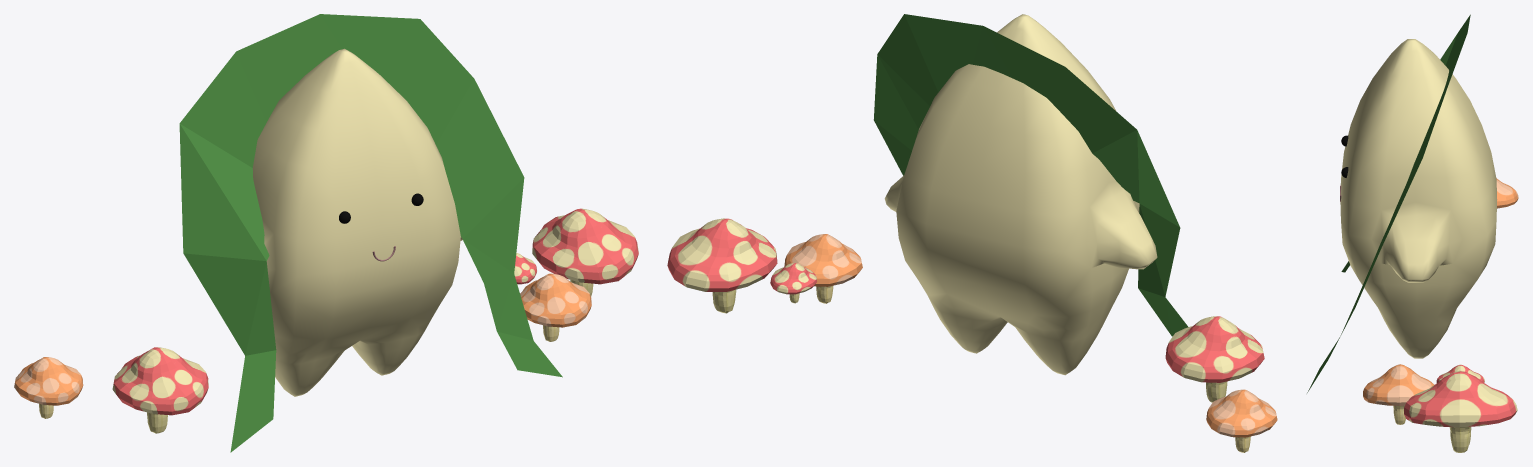
Rendered from 山精靈.fbx.
3 views of the same model, side by side, from view 1: azimuth 30°, elevation 25°; view 2: azimuth 150°, elevation 25°; view 3: azimuth 270°, elevation 25° (orthographic). The views are drawn at different scales.
Parts seen in each view (by area): view 1: polySurface1, polySurface5, polySurface9, polySurface6, polySurface7, polySurface8; view 2: polySurface1, polySurface5, polySurface9, polySurface6, polySurface7, polySurface8, polySurface10; view 3: polySurface1, polySurface9, polySurface7, polySurface5, polySurface8, polySurface10.
Part boxes in pixels (box(x1,y1,x2,y2)): polySurface1: box(252, 48, 462, 396); polySurface5: box(179, 14, 562, 452); polySurface9: box(532, 208, 638, 296); polySurface6: box(112, 347, 208, 433); polySurface7: box(520, 273, 591, 341); polySurface8: box(14, 357, 83, 418); polySurface1: box(884, 14, 1157, 375); polySurface5: box(873, 14, 1188, 336); polySurface9: box(667, 218, 777, 313); polySurface6: box(1165, 316, 1264, 402); polySurface7: box(784, 234, 862, 303); polySurface8: box(1206, 389, 1277, 452); polySurface10: box(770, 263, 816, 303); polySurface1: box(1340, 39, 1497, 358); polySurface9: box(1404, 370, 1517, 452); polySurface7: box(1363, 364, 1434, 424); polySurface5: box(1307, 14, 1470, 392); polySurface8: box(1496, 178, 1518, 208); polySurface10: box(1436, 364, 1484, 382).
Size of the model in its own units: 55.67 by 30.99 by 19.35.
6 materials, 3 textured.
